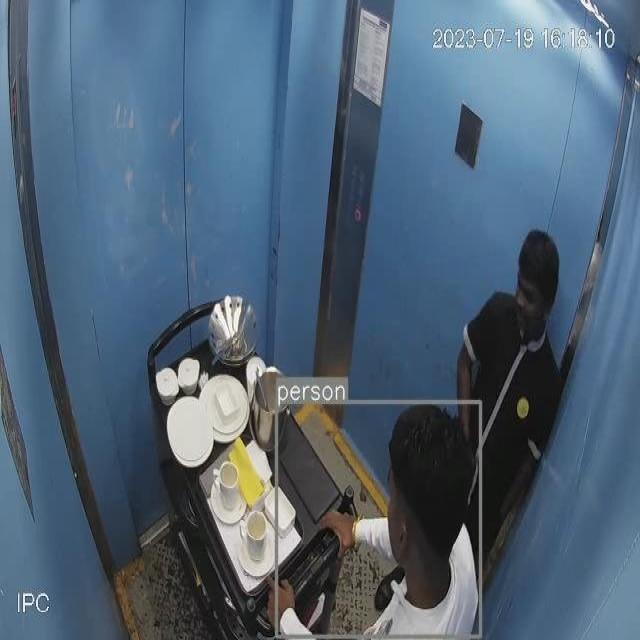person: (279, 410, 480, 640), (454, 214, 574, 526)
